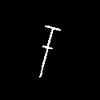double_crochet: (39, 26, 59, 76)
